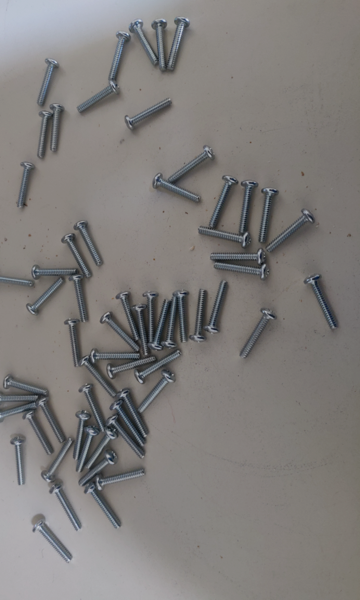longscrew: (239, 306, 277, 362), (265, 210, 315, 251), (308, 272, 339, 332), (75, 79, 124, 115), (170, 146, 213, 187), (34, 520, 73, 565), (123, 95, 173, 130), (86, 484, 122, 532), (119, 390, 156, 434), (141, 370, 177, 415), (108, 417, 144, 461), (109, 402, 145, 446), (152, 173, 198, 207), (82, 352, 114, 400), (41, 439, 74, 485), (168, 15, 196, 69), (48, 487, 81, 532), (209, 174, 237, 227), (257, 186, 282, 244), (240, 180, 265, 238), (134, 352, 181, 382), (101, 312, 137, 351), (86, 428, 118, 471), (131, 17, 158, 67), (73, 219, 102, 265), (80, 386, 107, 433), (27, 281, 62, 317), (79, 454, 117, 486), (36, 399, 64, 442), (24, 414, 54, 454), (62, 236, 90, 278), (34, 58, 58, 105), (107, 31, 131, 78), (97, 467, 146, 490), (116, 287, 136, 342), (108, 355, 158, 376), (215, 262, 270, 281), (196, 227, 251, 246), (162, 296, 181, 350), (153, 298, 172, 351), (171, 289, 190, 342), (189, 289, 208, 342), (208, 280, 227, 333), (210, 249, 265, 267), (78, 427, 99, 473), (72, 411, 93, 457), (2, 371, 45, 393), (31, 262, 74, 283), (70, 272, 87, 321), (144, 286, 158, 345), (0, 390, 37, 412), (9, 435, 24, 489), (67, 318, 83, 367), (17, 163, 33, 212), (36, 111, 52, 160), (0, 403, 35, 425), (51, 103, 67, 151), (134, 299, 147, 358), (0, 268, 31, 289), (156, 17, 166, 77)
